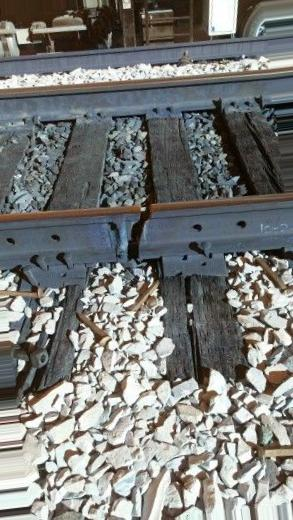tracks_fault: (93, 191, 201, 289)
